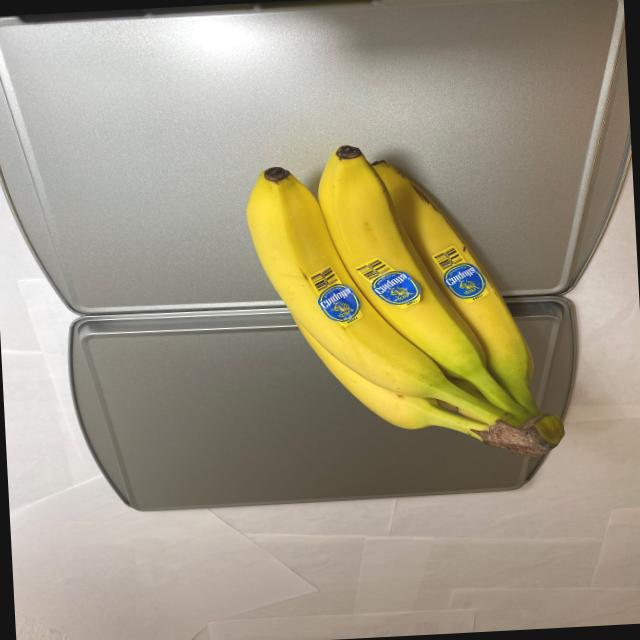banana: (238, 127, 578, 476)
